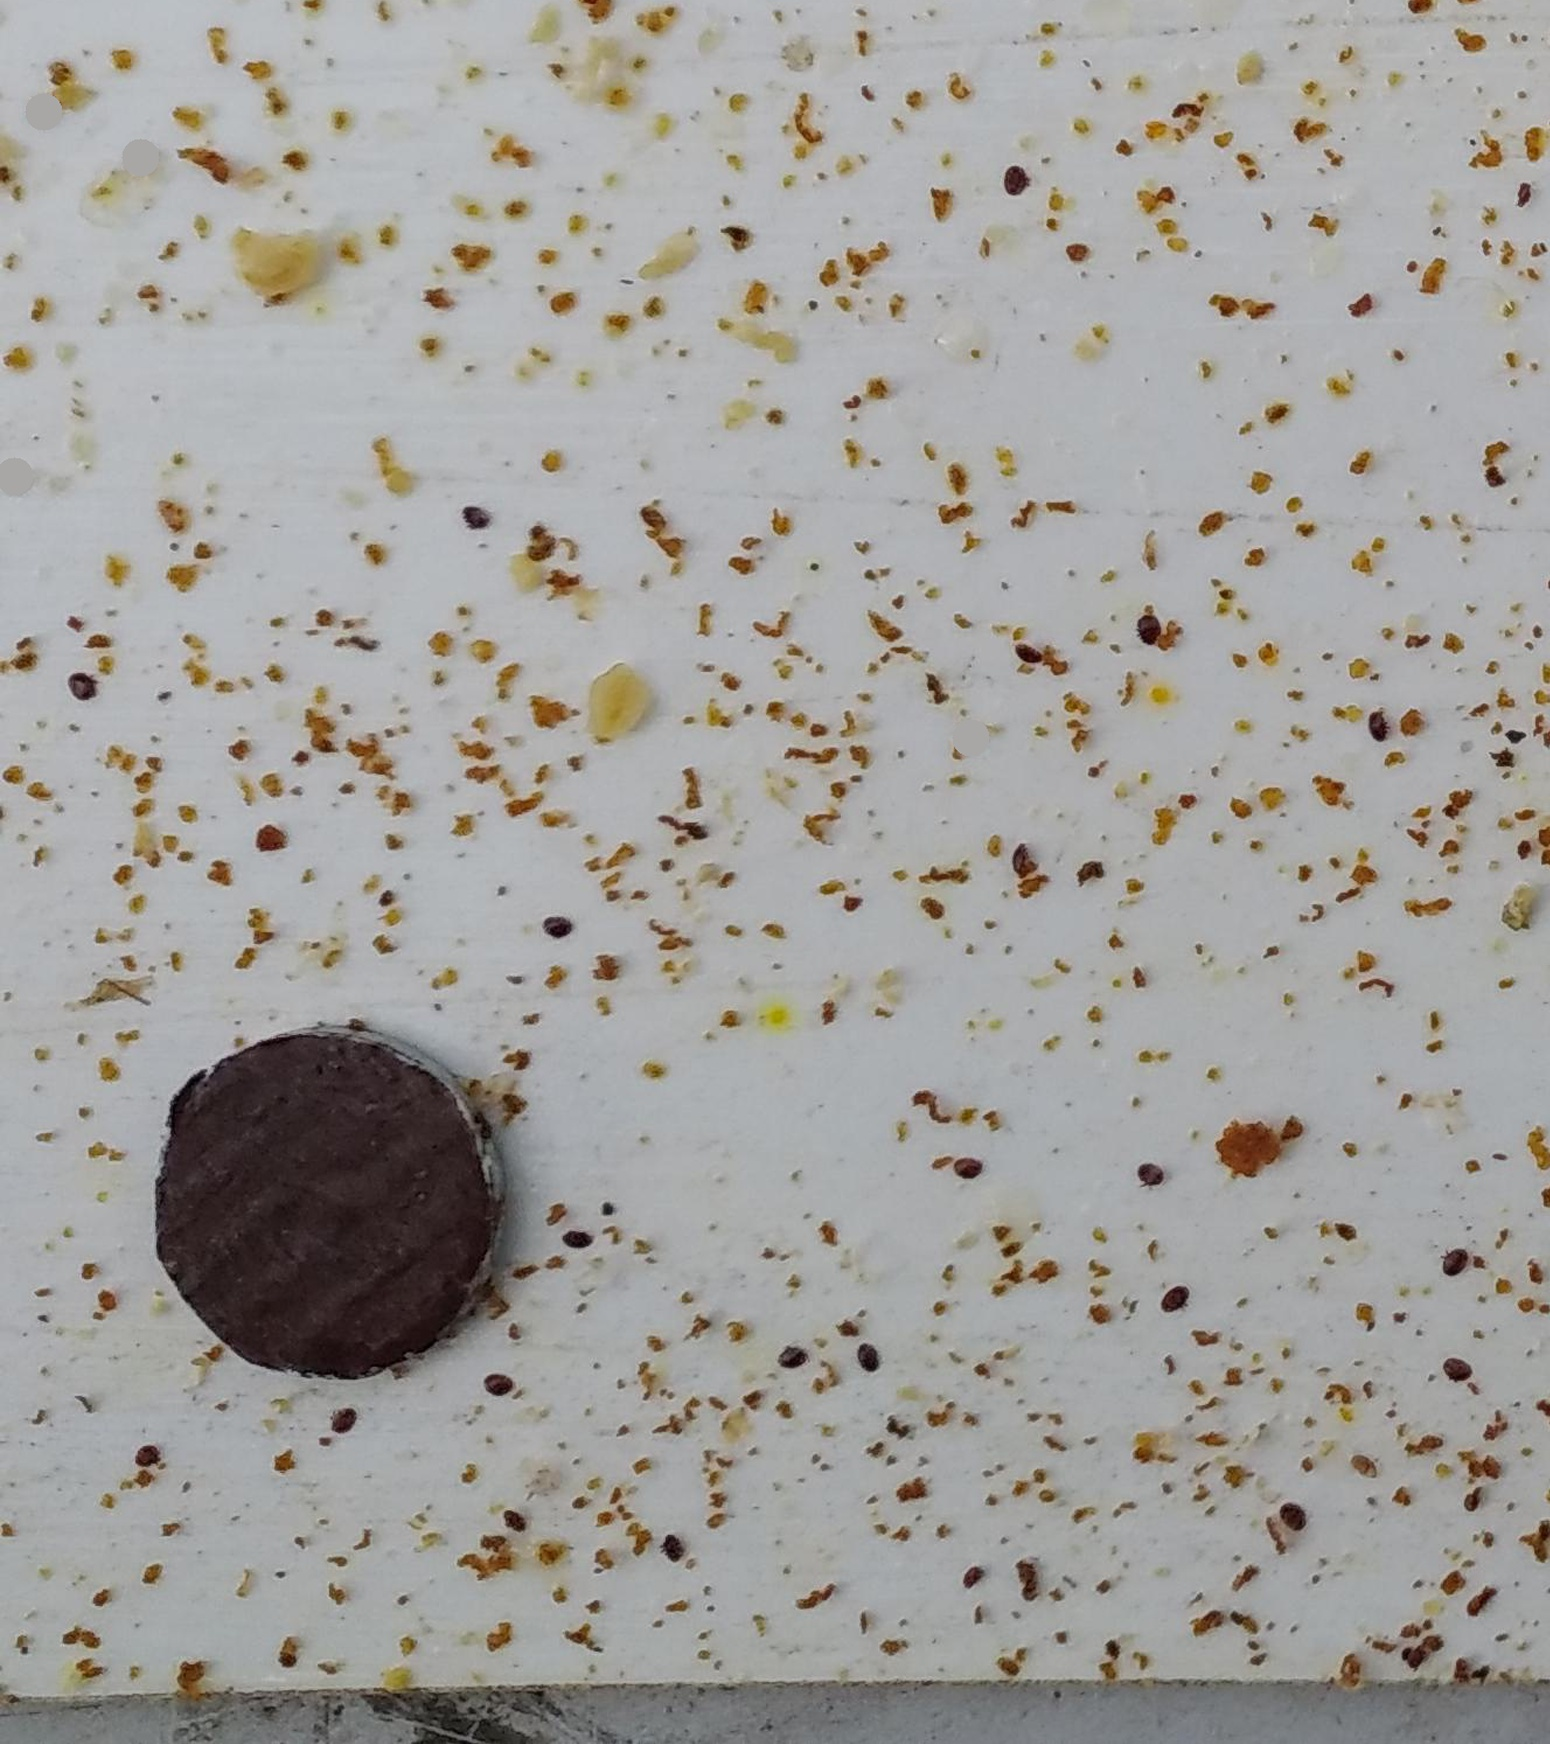Varroa: (1005, 844, 1035, 872), (564, 1222, 592, 1250), (781, 1345, 809, 1373), (334, 1407, 361, 1436), (1281, 1508, 1308, 1535), (1001, 163, 1028, 190), (545, 912, 572, 938), (851, 1348, 877, 1375), (139, 1440, 165, 1467), (1016, 642, 1040, 670), (661, 1538, 685, 1566), (958, 1156, 983, 1182), (1162, 1282, 1188, 1307), (69, 672, 94, 696), (1143, 624, 1168, 648), (1442, 1247, 1466, 1271), (1445, 1358, 1468, 1384), (1140, 1155, 1162, 1180), (486, 1375, 510, 1397), (1367, 713, 1388, 737), (474, 512, 488, 526)
